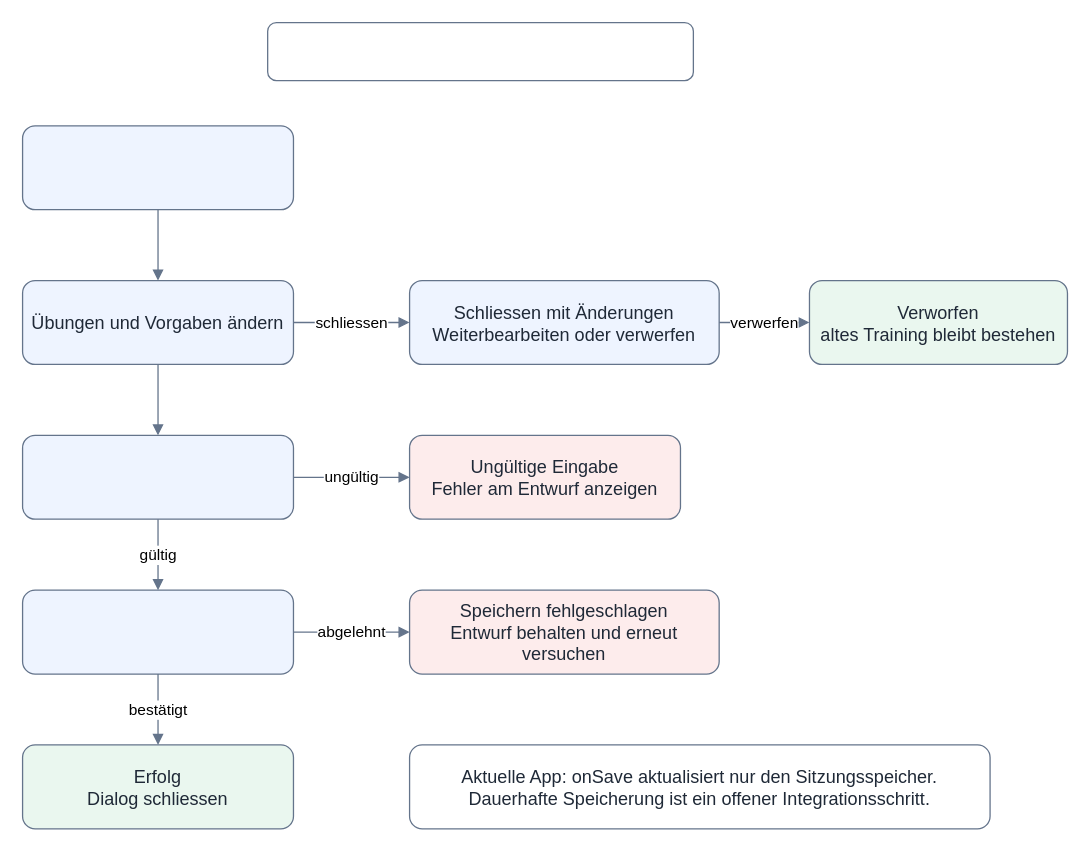
The diagram is 1090 pixels wide and 851 high, and some of its shapes have lost their labels. The shapes that lost their labels are listed below. From the top down, each one's centre as x and y in pixels, then its label:
(x=479, y=51): Trainingsübungen sicher bearbeiten
(x=157, y=167): Training öffnen unabhängigen Entwurf erstellen
(x=157, y=476): Speichern vollständige Liste prüfen
(x=157, y=631): onSave mit geordneter Liste auf Ergebnis warten
